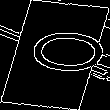O_E: (5, 29, 105, 81)
